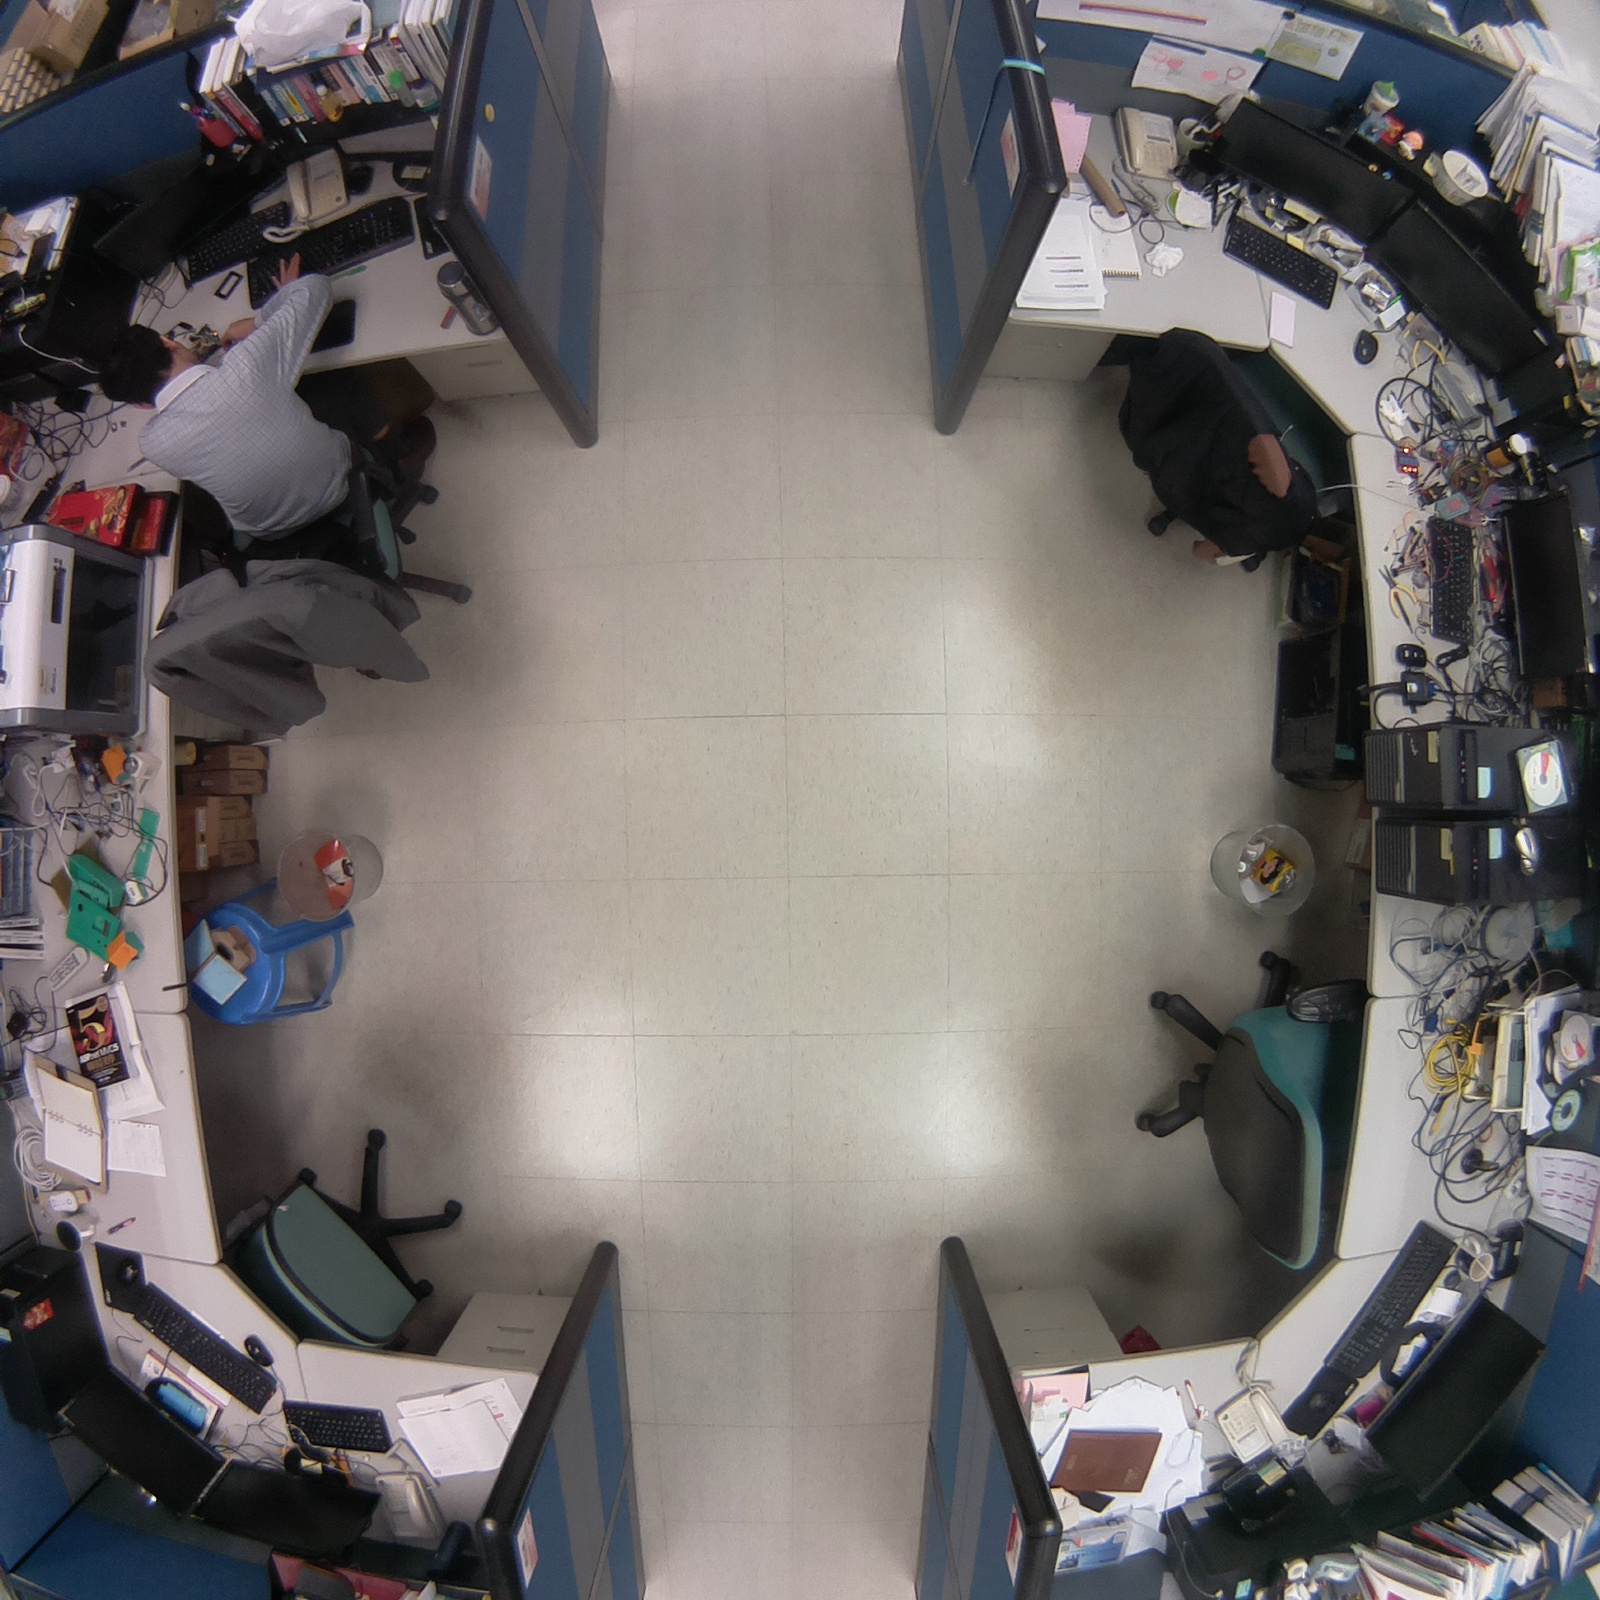chair: (1112, 929, 1368, 1291), (1101, 306, 1368, 583), (214, 1117, 483, 1373)
head: (85, 317, 191, 417)
sitting: (87, 271, 491, 750)
